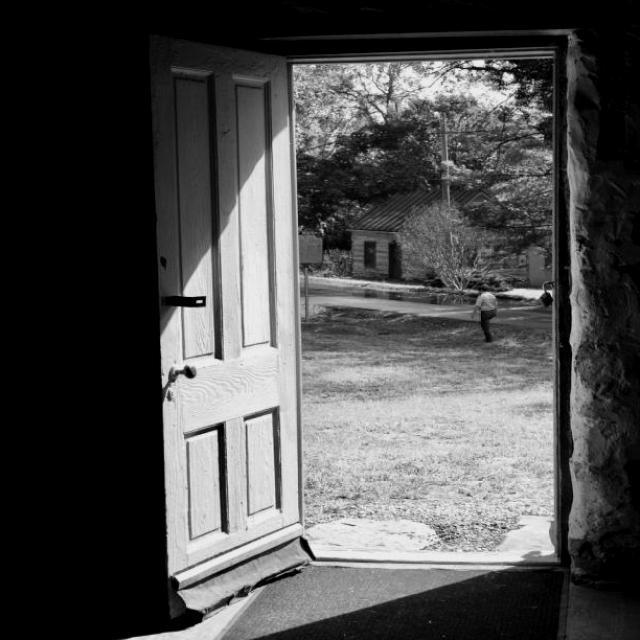door: (151, 36, 305, 592)
